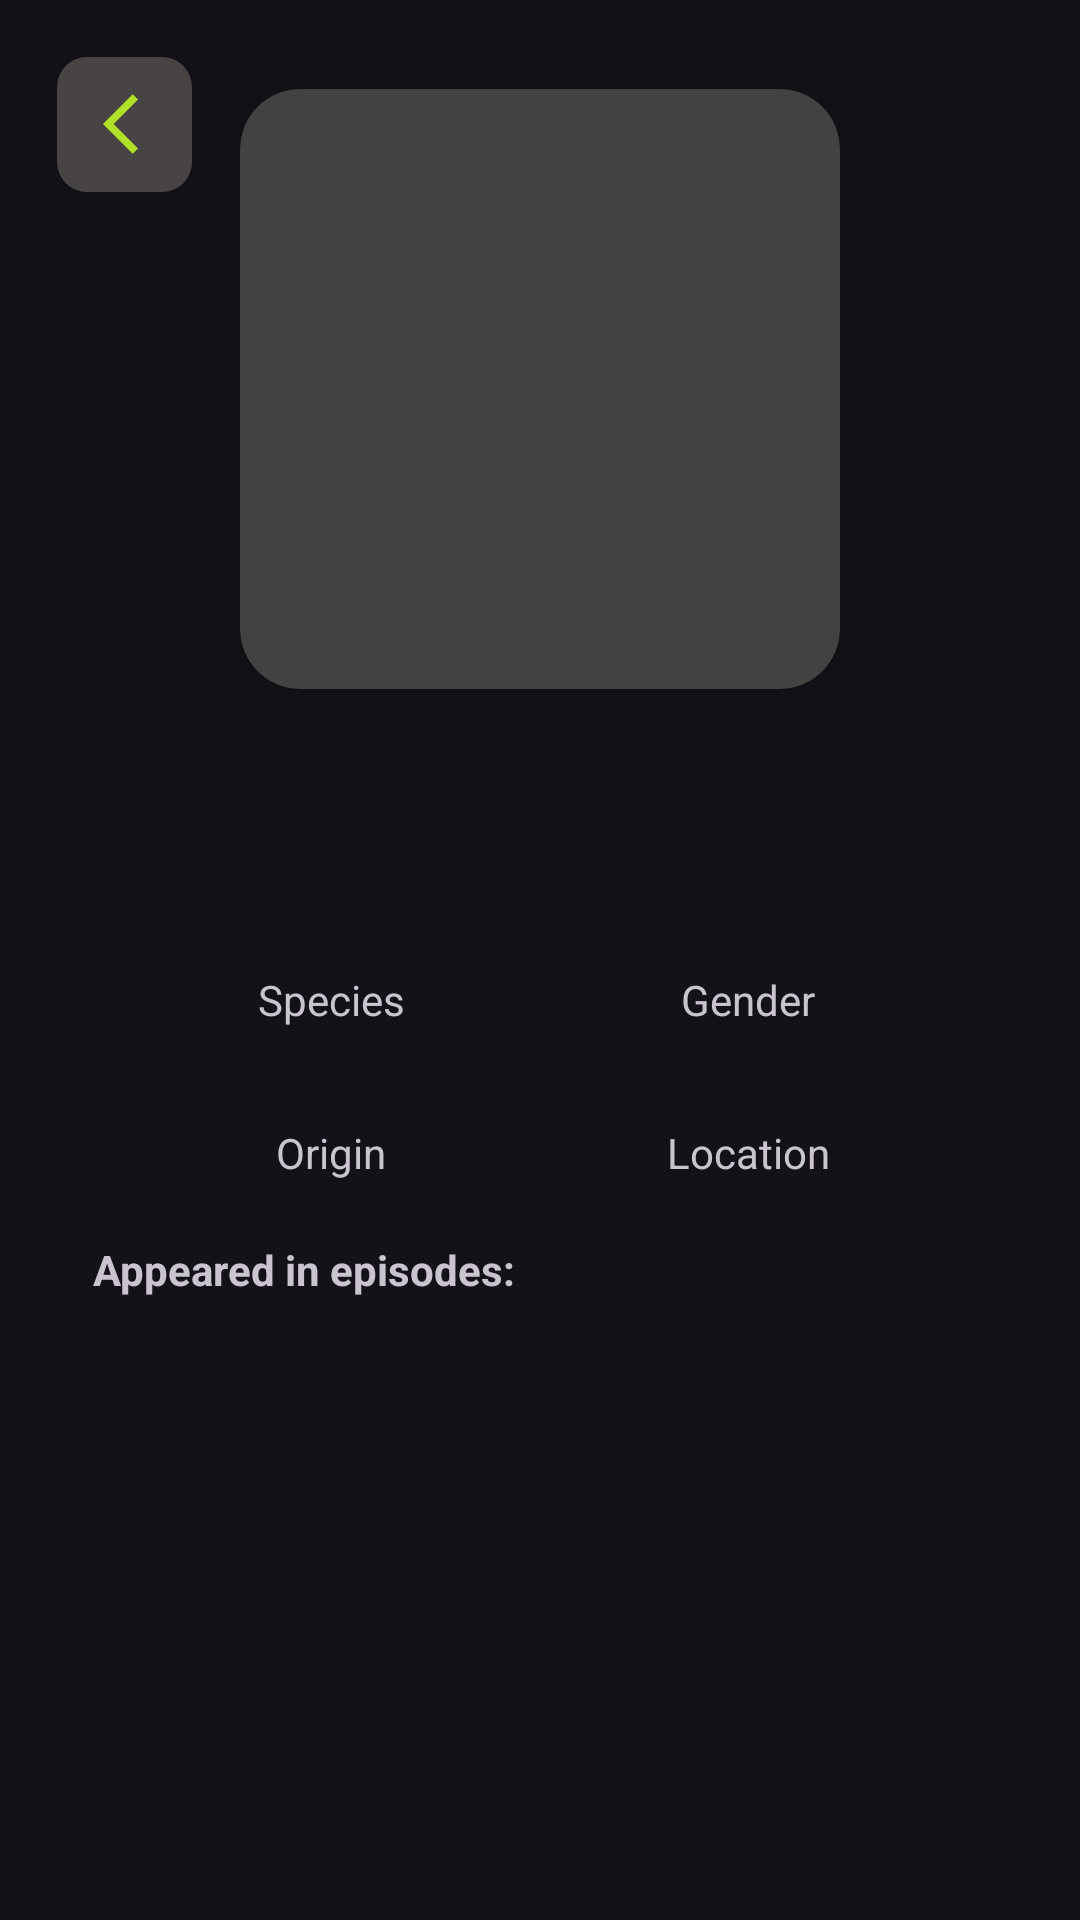

Locate icon controls on the screen. Image size 1080×1920, boxes as {"x1": x1, "y1": y1, "x2": x2, "y2": y2}.
back arrow: {"x1": 57, "y1": 57, "x2": 192, "y2": 192}
